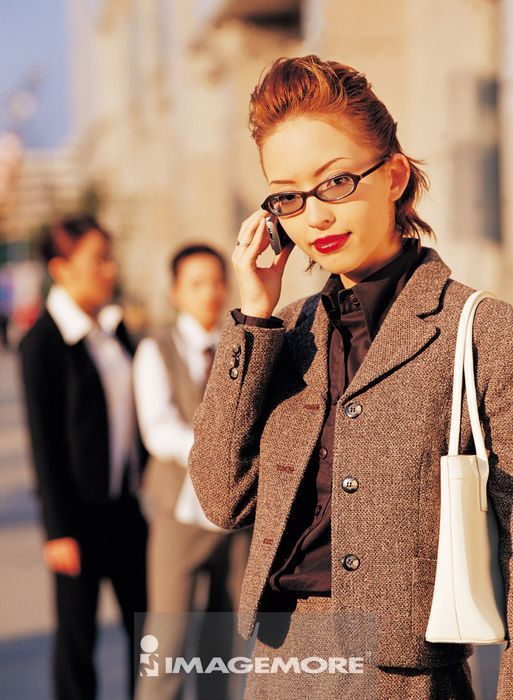talk: (224, 149, 361, 317)
